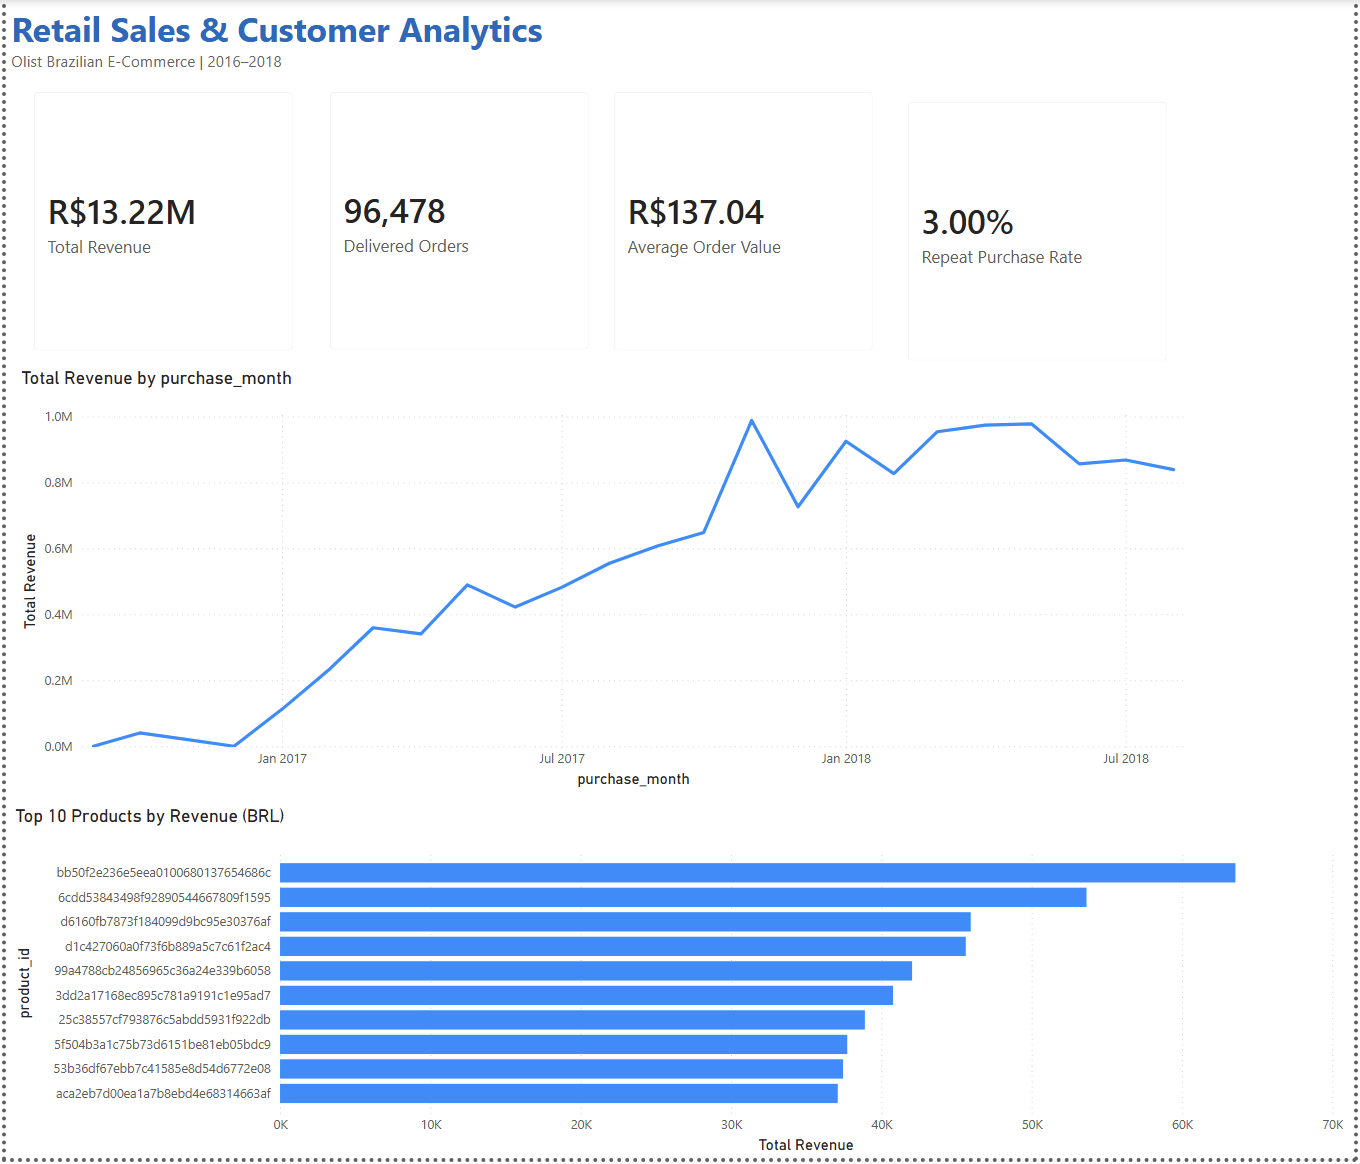

The page's visual inventory and layout, read from the dashboard file:
{"tool":"powerbi","page":{"name":"Page 1","canvas":[1280,1100],"ordinal":0},"visuals":[{"type":"cardVisual","fields":{"Data":["sales_cleaned.Total Revenue"]},"box":[9.5,70.3,280,280],"z":0},{"type":"cardVisual","fields":{"Data":["sales_cleaned.Delivered Orders"]},"box":[290.7,70.3,280.5,279.1],"z":1},{"type":"cardVisual","fields":{"Data":["sales_cleaned.Average Order Value"]},"box":[560.4,70.3,280,280],"z":2},{"type":"cardVisual","fields":{"Data":["sales_cleaned.Repeat Purchase Rate"]},"box":[839.7,79.8,280,280],"z":3},{"type":"lineChart","fields":{"Y":["sales_cleaned.Total Revenue"],"Category":["sales_cleaned.purchase_month"]},"box":[9.5,349.6,1126.6,402.8],"z":4},{"type":"clusteredBarChart","title":"Top 10 Products by Revenue (BRL)","fields":{"Y":["sales_cleaned.Total Revenue"],"Category":["sales_cleaned.product_id"]},"box":[3.8,765.6,1271,334.4],"z":5},{"type":"textbox","box":[0,0,581.3,79.8],"z":6}]}

Visuals, with their boxes in screenshot pixels (x1, y1, x2, y2), scaled from the page's 1280x1100 canvas onto the 1360x1164 screenshot:
cardVisual - sales_cleaned.Total Revenue: <box>10,74,308,371</box>
cardVisual - sales_cleaned.Delivered Orders: <box>309,74,607,370</box>
cardVisual - sales_cleaned.Average Order Value: <box>595,74,893,371</box>
cardVisual - sales_cleaned.Repeat Purchase Rate: <box>892,84,1190,381</box>
lineChart - sales_cleaned.Total Revenue x sales_cleaned.purchase_month: <box>10,370,1207,796</box>
"Top 10 Products by Revenue (BRL)" clusteredBarChart: <box>4,810,1354,1163</box>
textbox: <box>0,0,618,84</box>
